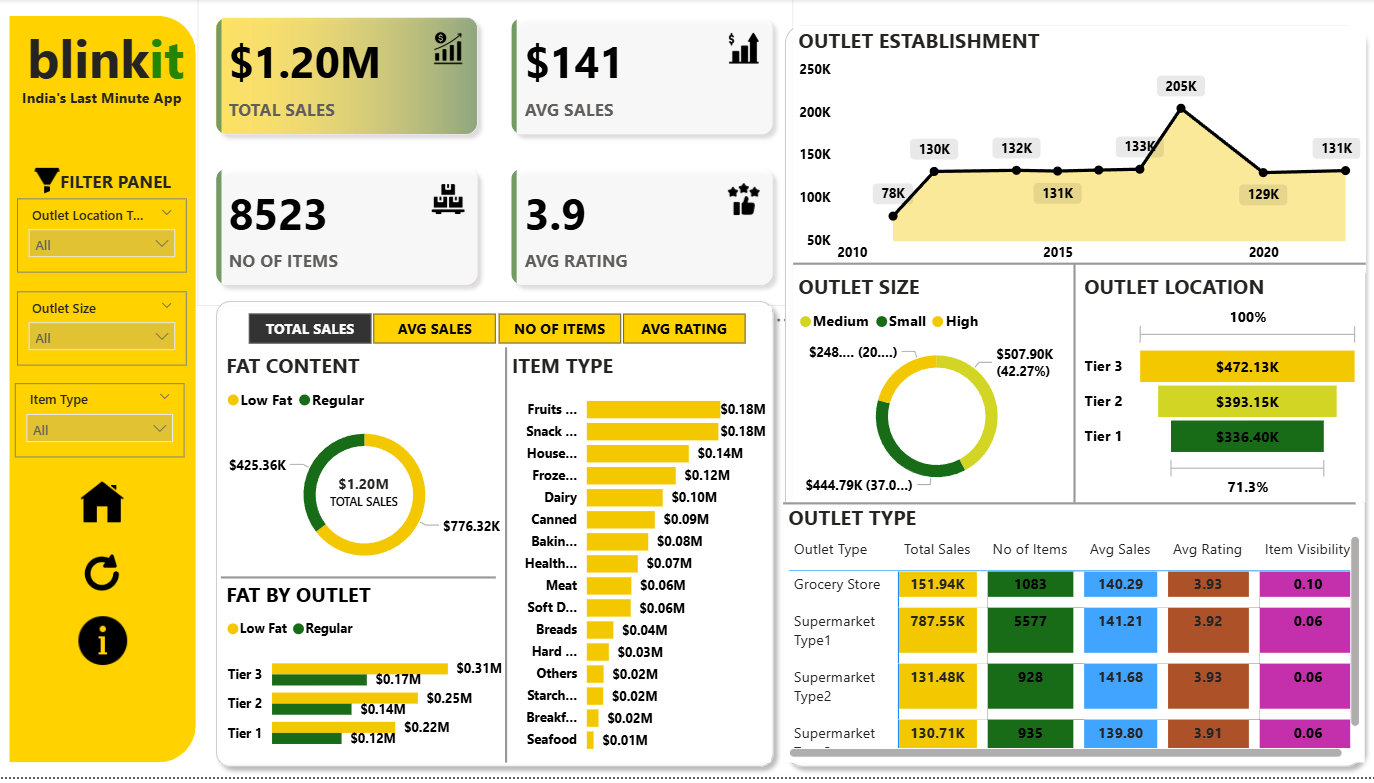

The dashboard page shown, as its layout file describes it:
{"tool":"powerbi","page":{"name":"Page 1","canvas":[1280,720],"ordinal":0},"visuals":[{"type":"shape","box":[10.1,15.8,172.8,691.2],"z":0},{"type":"textbox","box":[15.8,15.8,168.5,77.8],"z":1000},{"type":"textbox","box":[8.6,76.3,175.7,33.1],"z":2000},{"type":"cardVisual","fields":{"Data":["Table1.TOTAL SALES","Table1.AVG SALES","Table1.NO OF ITEMS","Table1.AVG RATING"]},"box":[184.3,0,551.5,283.7],"z":3000},{"type":"shape","box":[193,270.7,534.2,449.3],"z":4000},{"type":"slicer","fields":{"Values":["Matrix.Matrix"]},"box":[205.9,283.7,509.8,41.8],"z":5000},{"type":"donutChart","title":"FAT CONTENT","fields":{"Y":["Table1.TOTAL SALES"],"Category":["Table1.Item Fat Content"]},"box":[205.9,325.4,265,213.1],"z":6000},{"type":"clusteredBarChart","title":"ITEM TYPE","fields":{"Y":["Table1.TOTAL SALES"],"Category":["Table1.Item Type"]},"box":[470.9,325.4,244.8,381.6],"z":7000},{"type":"clusteredBarChart","title":"FAT BY OUTLET","fields":{"Y":["Table1.TOTAL SALES"],"Series":["Table1.Item Fat Content"],"Category":["Table1.Outlet Location Type"]},"box":[205.9,538.6,265,168.5],"z":8000},{"type":"cardVisual","fields":{"Data":["Table1.TOTAL SALES"]},"box":[298.1,432,80.6,46.1],"z":9000},{"type":"shape","box":[720,15.8,553,704.2],"z":10000},{"type":"lineChart","title":"OUTLET ESTABLISHMENT","fields":{"Category":["Table1.Outlet Establishment Year"],"Y":["Sum(Table1.Sales)"]},"box":[735.8,24.5,529.9,229],"z":11000},{"type":"donutChart","title":"OUTLET SIZE","fields":{"Y":["Table1.TOTAL SALES"],"Category":["Table1.Outlet Size"]},"box":[735.8,253.4,265,213.1],"z":12000},{"type":"funnel","title":"OUTLET LOCATION","fields":{"Y":["Table1.TOTAL SALES"],"Category":["Table1.Outlet Location Type"]},"box":[1000.8,253.4,265,213.1],"z":13000},{"type":"pivotTable","title":"OUTLET TYPE","fields":{"Rows":["Table1.Outlet Type"],"Values":["Sum(Table1.Sales)","CountNonNull(Table1.Item Identifier)","Avg(Table1.Sales)","Avg(Table1.Rating)","Avg(Table1.Item Visibility)"]},"box":[727.2,466.6,538.6,240.5],"z":14000},{"type":"shape","box":[735.8,236.2,529.9,17.3],"z":15000},{"type":"shape","box":[727.2,457.9,529.9,17.3],"z":16000},{"type":"shape","box":[205.9,531.4,254.9,7.2],"z":17000},{"type":"shape","box":[462.2,322.6,15.8,384.5],"z":18000},{"type":"shape","box":[992.2,244.8,8.6,221.8],"z":19000},{"type":"slicer","fields":{"Values":["Table1.Outlet Location Type"]},"box":[17.3,184.3,157,69.1],"z":20000},{"type":"slicer","fields":{"Values":["Table1.Outlet Size"]},"box":[17.3,270.7,157,69.1],"z":21000},{"type":"slicer","fields":{"Values":["Table1.Item Type"]},"box":[15.8,355.7,157,69.1],"z":22000},{"type":"textbox","box":[46.1,152.6,126.7,31.7],"z":22001},{"type":"image","box":[24.5,148.3,41.8,38.9],"z":22002},{"type":"image","box":[70.6,439.2,51.8,53.3],"z":22003},{"type":"image","box":[64.8,502.6,61.9,57.6],"z":22004},{"type":"image","box":[64.8,564.5,63.4,59],"z":22005}]}

Visuals, with their boxes in screenshot pixels (x1, y1, x2, y2), scaled from the page's 1280x720 canvas onto the 1374x783 screenshot:
shape: bbox(11, 17, 196, 769)
textbox: bbox(17, 17, 198, 102)
textbox: bbox(9, 83, 198, 119)
cardVisual - Table1.TOTAL SALES x Table1.AVG SALES: bbox(198, 0, 790, 309)
shape: bbox(207, 294, 781, 782)
slicer - Matrix.Matrix: bbox(221, 309, 768, 354)
"FAT CONTENT" donutChart: bbox(221, 354, 505, 586)
"ITEM TYPE" clusteredBarChart: bbox(505, 354, 768, 769)
"FAT BY OUTLET" clusteredBarChart: bbox(221, 586, 505, 769)
cardVisual - Table1.TOTAL SALES: bbox(320, 470, 407, 520)
shape: bbox(773, 17, 1366, 782)
"OUTLET ESTABLISHMENT" lineChart: bbox(790, 27, 1359, 276)
"OUTLET SIZE" donutChart: bbox(790, 276, 1074, 507)
"OUTLET LOCATION" funnel: bbox(1074, 276, 1359, 507)
"OUTLET TYPE" pivotTable: bbox(781, 507, 1359, 769)
shape: bbox(790, 257, 1359, 276)
shape: bbox(781, 498, 1349, 517)
shape: bbox(221, 578, 495, 586)
shape: bbox(496, 351, 513, 769)
shape: bbox(1065, 266, 1074, 507)
slicer - Table1.Outlet Location Type: bbox(19, 200, 187, 276)
slicer - Table1.Outlet Size: bbox(19, 294, 187, 370)
slicer - Table1.Item Type: bbox(17, 387, 185, 462)
textbox: bbox(49, 166, 185, 200)
image: bbox(26, 161, 71, 204)
image: bbox(76, 478, 131, 536)
image: bbox(70, 547, 136, 609)
image: bbox(70, 614, 138, 678)
